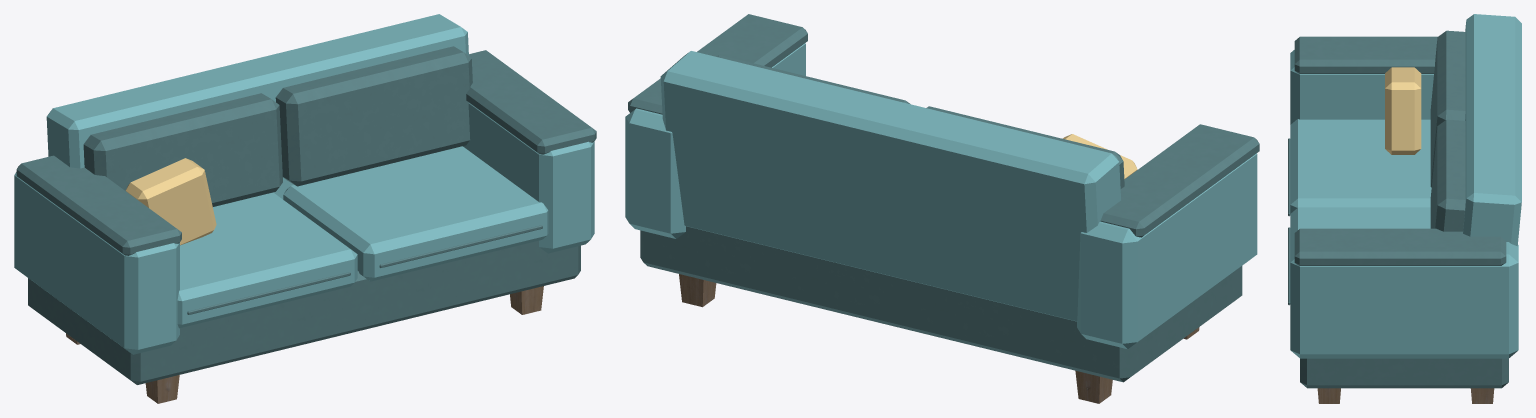
Rendered from build_sofa.glb.
3 views of the same model, side by side, from view 1: azimuth 30°, elevation 25°; view 2: azimuth 150°, elevation 25°; view 3: azimuth 270°, elevation 25° (orthographic). The views are drawn at different scales.
Visible parts, largest first — view 1: build_sofa; view 2: build_sofa; view 3: build_sofa.
Boxes of the visible parts, x1,y1,x2,y2 form: build_sofa: [14, 14, 596, 403]; build_sofa: [625, 14, 1259, 403]; build_sofa: [1288, 14, 1521, 403].
Size of the model in its own units: 2 by 0.9 by 0.9.
Materials: 4 (2 with a texture image).
